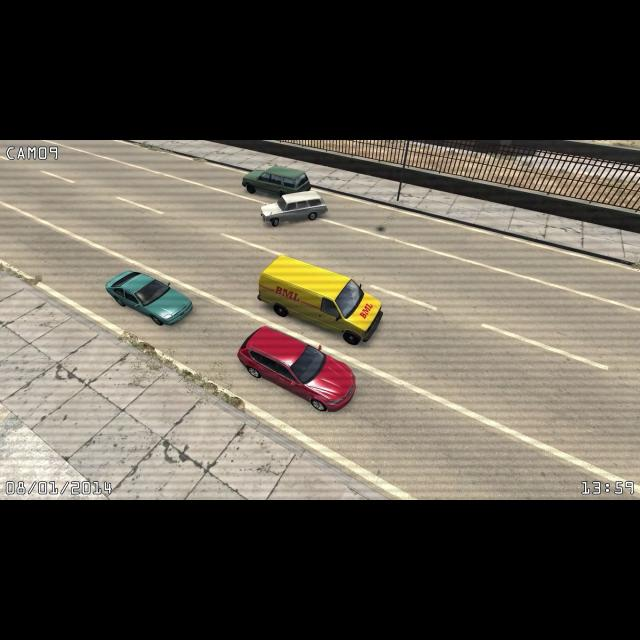accident: (240, 165, 330, 227)
